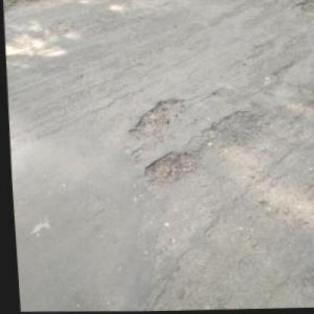Hueco: (122, 94, 187, 143), (194, 108, 266, 149), (137, 148, 198, 189)
